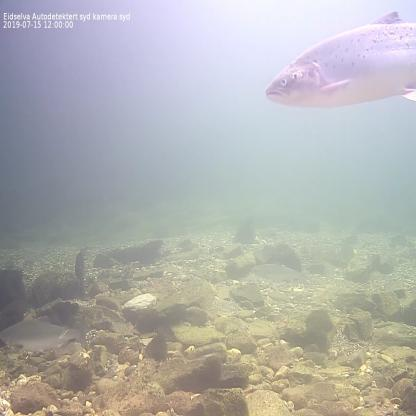salmon: (262, 7, 416, 111), (0, 313, 91, 356), (249, 259, 306, 287)
